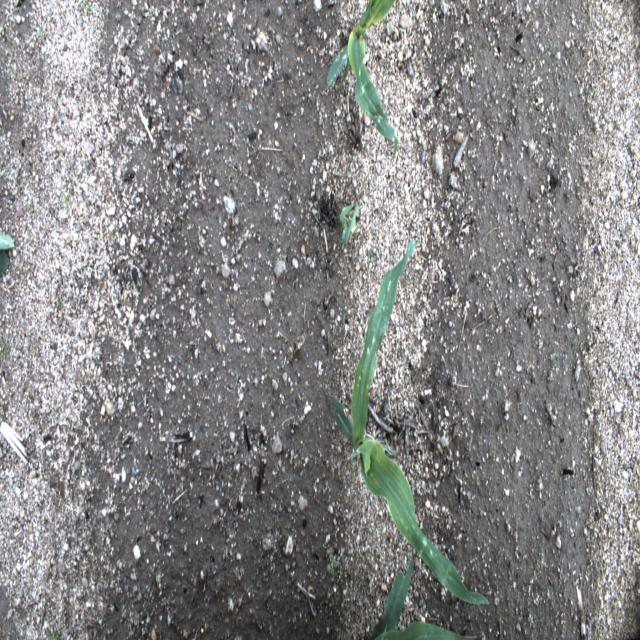crop: (327, 238, 490, 608), (324, 0, 398, 158), (368, 556, 469, 639), (338, 202, 356, 247), (0, 233, 15, 277)
weed: (45, 612, 64, 639), (0, 323, 13, 361), (324, 550, 339, 579), (54, 183, 72, 206), (227, 163, 240, 194), (35, 19, 49, 43), (257, 140, 264, 161), (82, 0, 90, 18), (28, 199, 35, 214), (368, 246, 374, 262)
